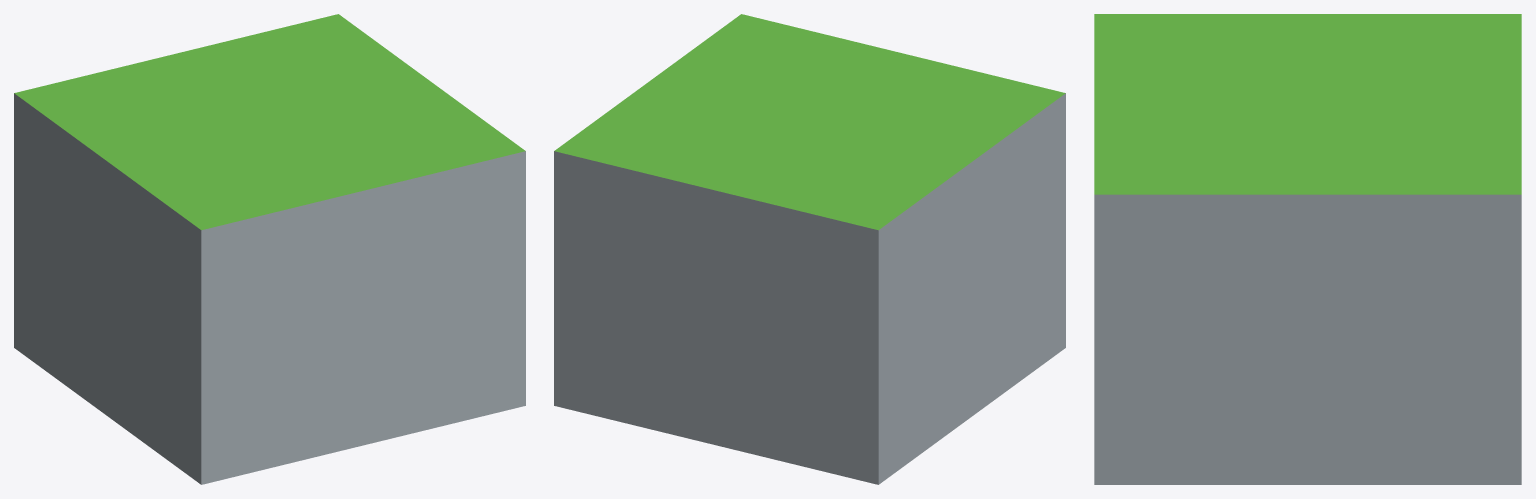
Rendered from stone-block.glb.
3 views of the same model, side by side, from view 1: azimuth 30°, elevation 25°; view 2: azimuth 150°, elevation 25°; view 3: azimuth 270°, elevation 25° (orthographic). The views are drawn at different scales.
Visible parts, largest first — view 1: cliff_block_stone; view 2: cliff_block_stone; view 3: cliff_block_stone.
Boxes of the visible parts, left/top/right/bottom form: cliff_block_stone: left=14, top=14, right=525, bottom=484; cliff_block_stone: left=554, top=14, right=1065, bottom=484; cliff_block_stone: left=1094, top=14, right=1521, bottom=484.
Size of the model in its own units: 4 by 3 by 4.
